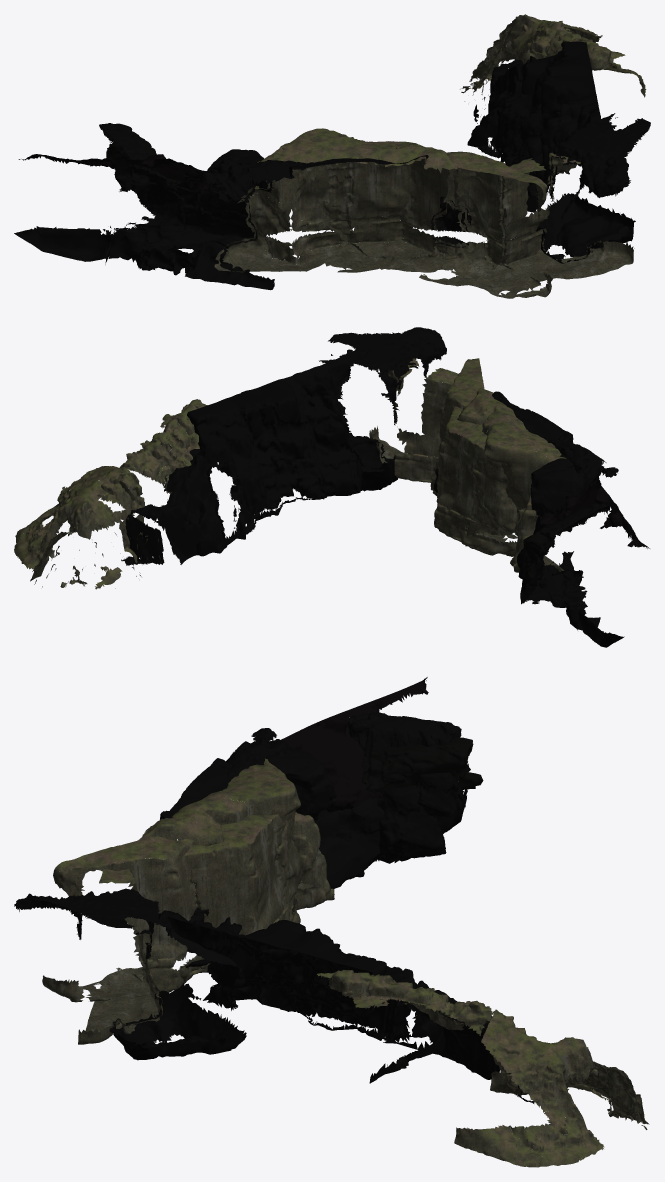
File: cliffs_web.glb
The picture shows the model from 3 angles, top to bottom: view 1: azimuth 30°, elevation 25°; view 2: azimuth 150°, elevation 25°; view 3: azimuth 270°, elevation 25°; orthographic projection. The views are drawn at different scales.
Parts seen in each view (by area): view 1: Cliffs_REST_web; view 2: Cliffs_REST_web; view 3: Cliffs_REST_web.
Boxes of the visible parts, x1,y1,x2,y2 form: Cliffs_REST_web: (14,14,650,298); Cliffs_REST_web: (14,327,649,647); Cliffs_REST_web: (14,677,649,1167).
Size of the model in its own units: 353 by 69.29 by 259.
1 material, 1 textured.
